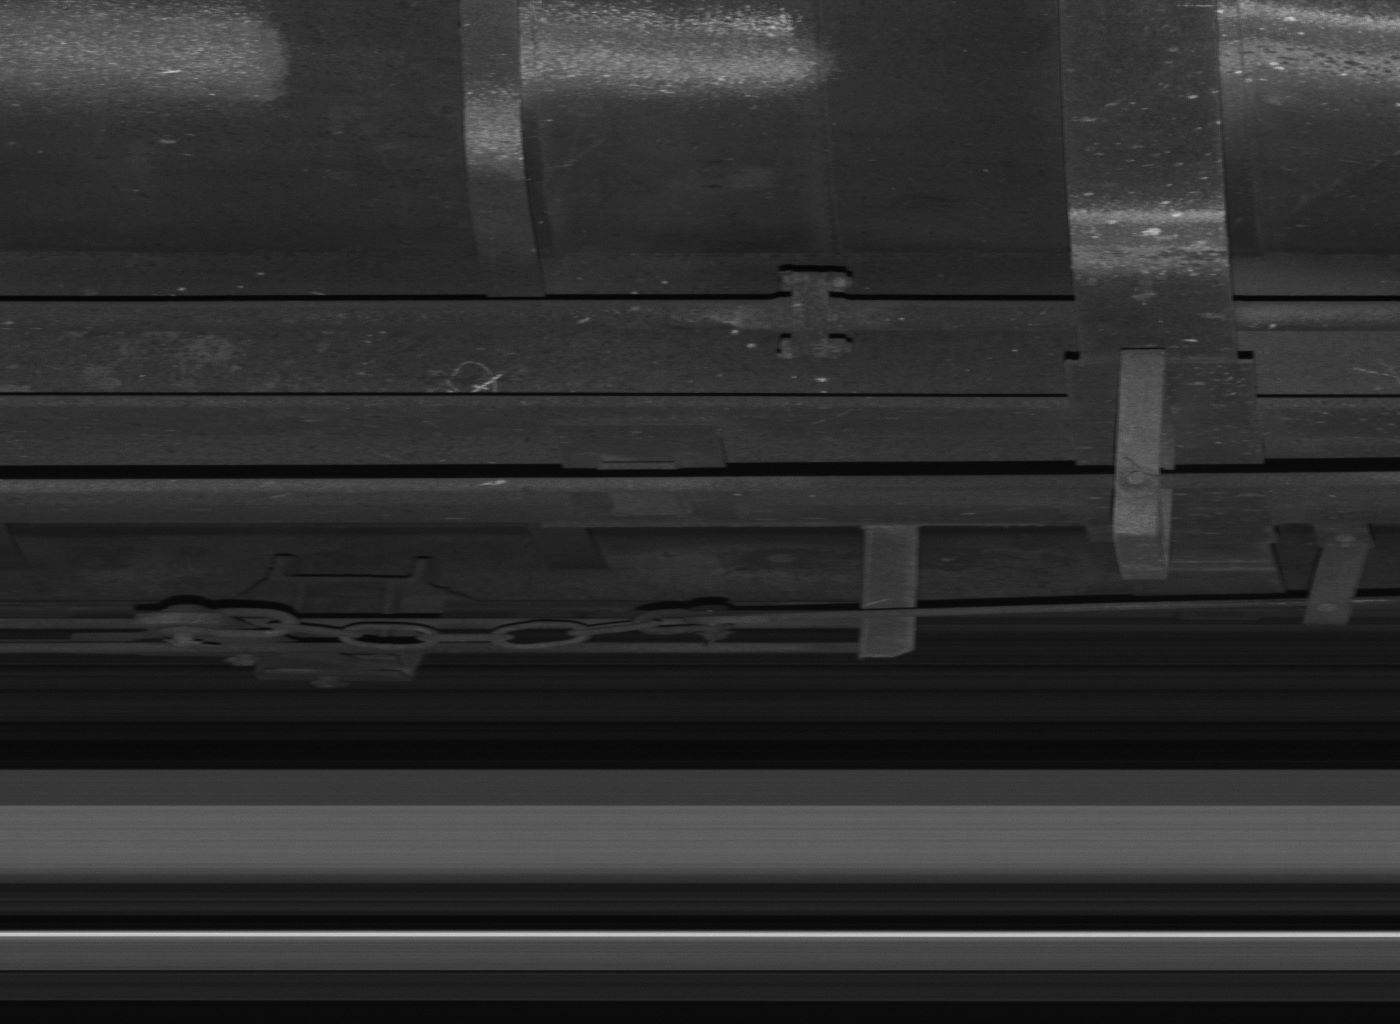Upper lever: (857, 525, 918, 661)
normal: (1111, 351, 1175, 580), (1302, 524, 1371, 628)
